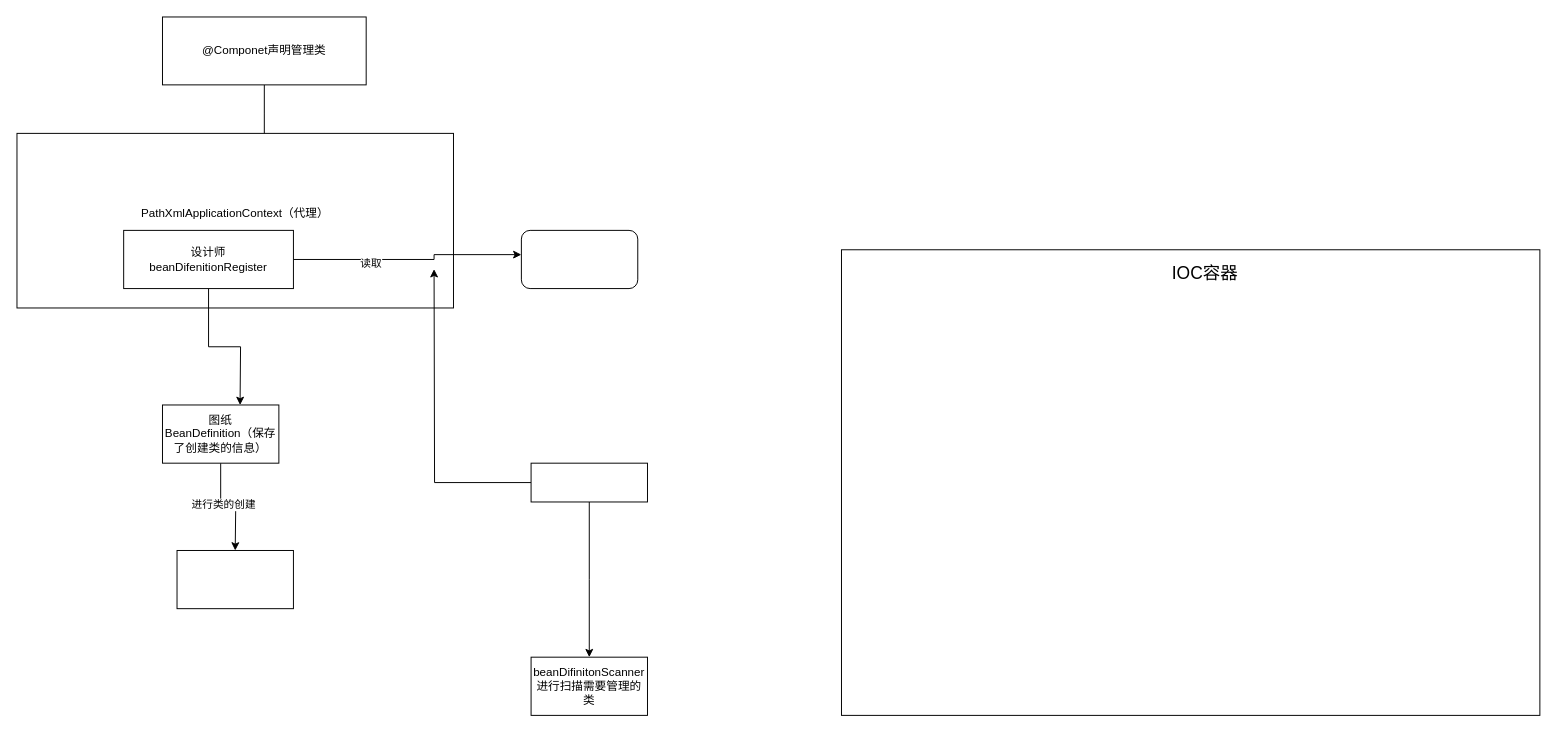
The diagram is 1557 pixels wide and 732 high, and some of its shapes have lost their labels. The shapes that lost their labels are listed below. From the top down, each one's centre as x and y in pixels, then its label:
At pixel 579 259: "xml的配置，或者一些注解".
At pixel 588 482: "beanDifenitionReader".
At pixel 234 579: "beanfactory".
